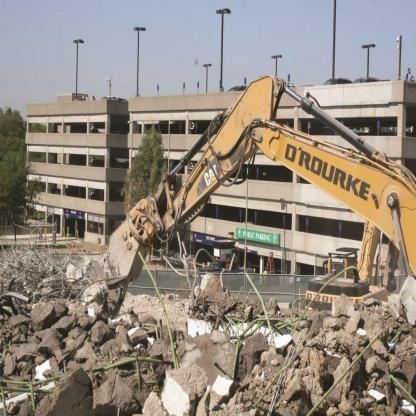rebar: (0, 198, 125, 304), (218, 271, 307, 349), (305, 329, 385, 415), (139, 247, 177, 360), (93, 342, 176, 390), (267, 327, 304, 415), (301, 264, 361, 318), (2, 372, 62, 415), (254, 363, 291, 406), (162, 254, 205, 281), (177, 230, 193, 298), (194, 246, 229, 276), (390, 370, 416, 405), (213, 360, 243, 390), (162, 278, 195, 301), (220, 252, 236, 292), (0, 290, 33, 305), (142, 321, 160, 341), (230, 344, 240, 376), (390, 330, 403, 345), (159, 316, 166, 340), (62, 357, 68, 372)
